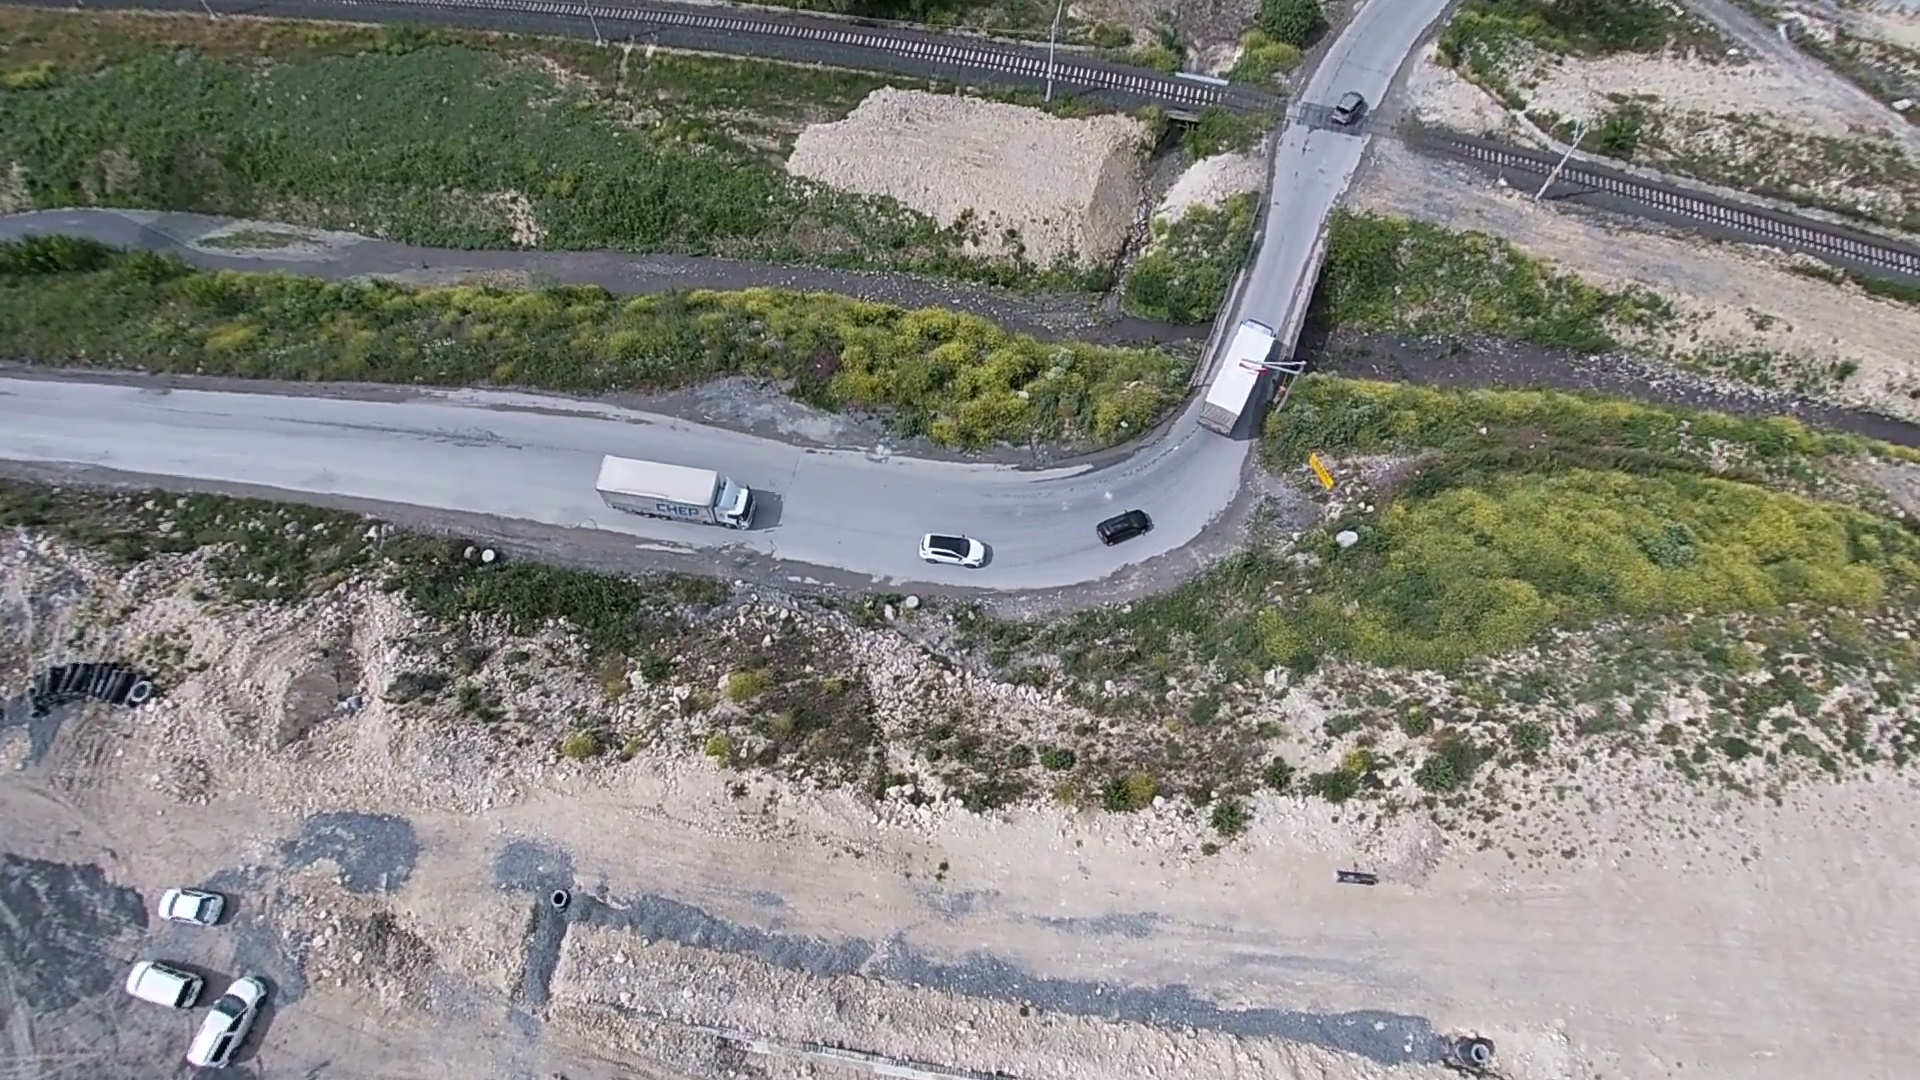araba: (187, 973, 280, 1071), (120, 953, 200, 1018), (154, 885, 229, 934), (918, 534, 994, 574), (1096, 512, 1158, 545), (1325, 94, 1371, 131)
kamyon: (591, 447, 775, 535), (1197, 311, 1275, 433)
